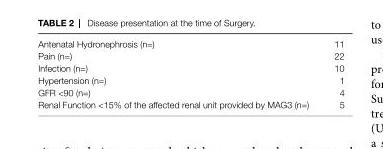table: (37, 37, 343, 109)
table column: (37, 37, 320, 109), (320, 37, 343, 109)
table row: (37, 37, 343, 49), (37, 49, 343, 61), (37, 61, 343, 73), (37, 73, 343, 85), (37, 85, 343, 97), (37, 97, 343, 109)
